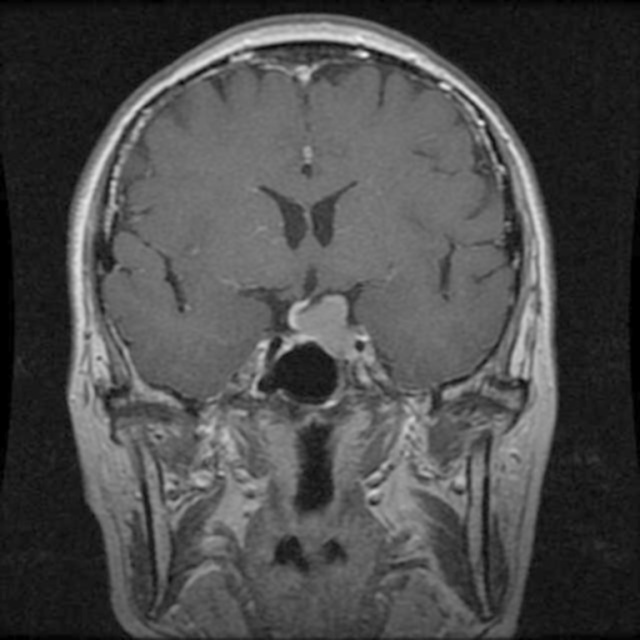no tumor: (281, 286, 375, 354)
